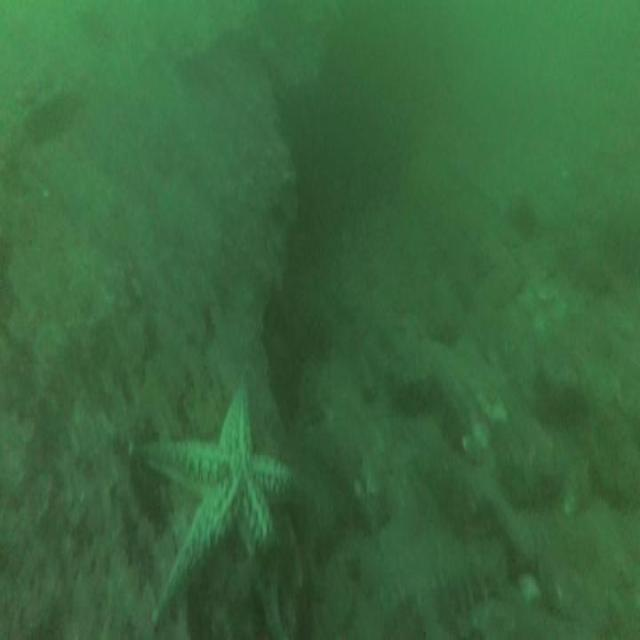holothurian: (441, 562, 503, 612)
starfish: (134, 366, 294, 634)
